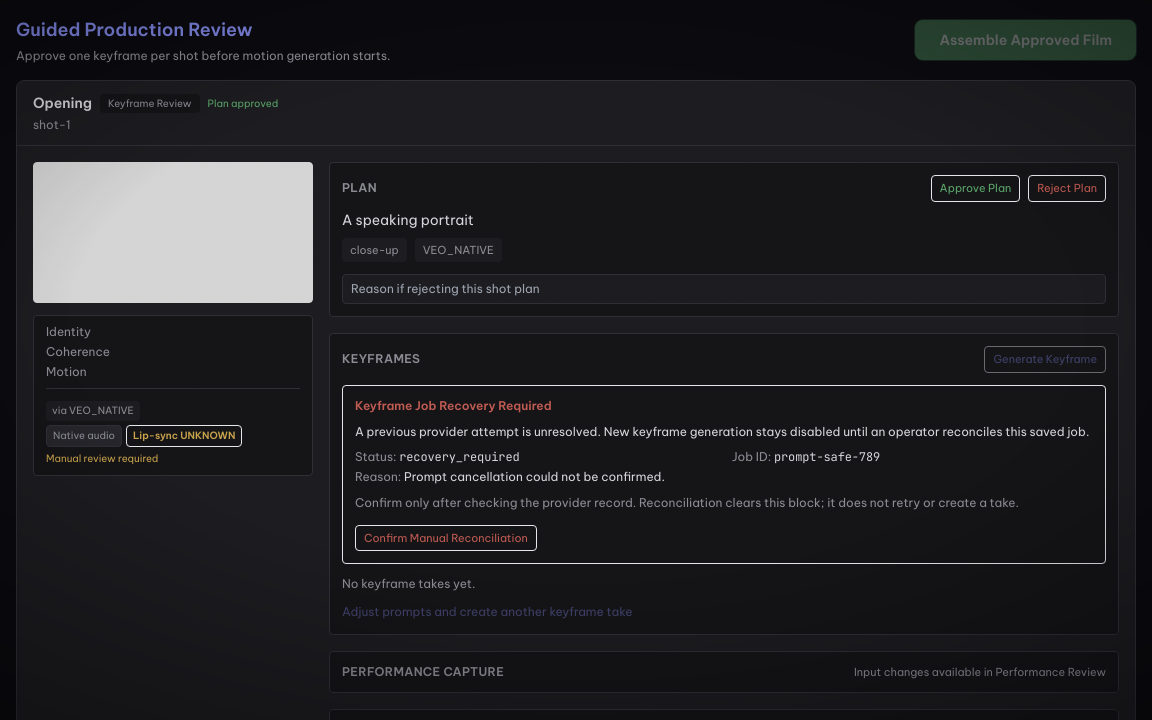
Test: ReviewStage deferred keyframe recovery › keeps the recovery block visible and reports a failed reconciliation inline
This screenshot has width=1152, height=720.
Click the button "Confirm Manual Reconciliation".
click(446, 538)  # box [355, 524, 537, 550]
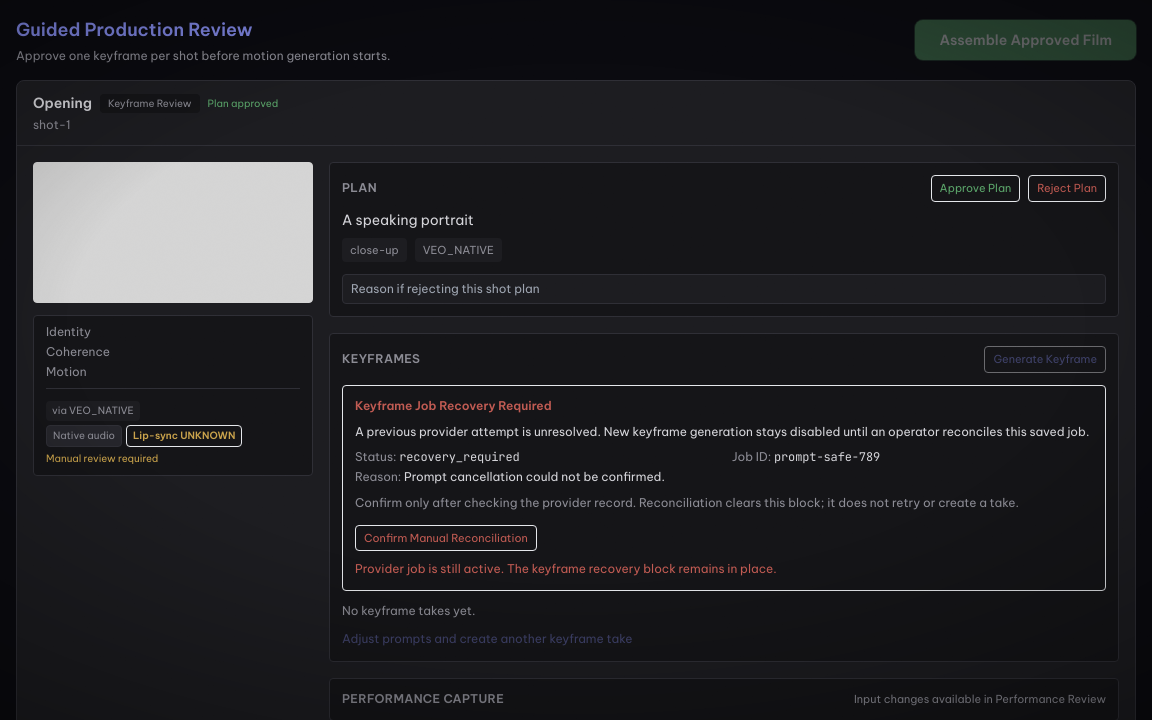
expect the message "Keyframe Job Recovery Required" is shown: met, box [342, 384, 1106, 591]
expect the text "Provider job is still active. The keyframe recovery block remains in place." is shown: met, box [355, 560, 777, 576]
